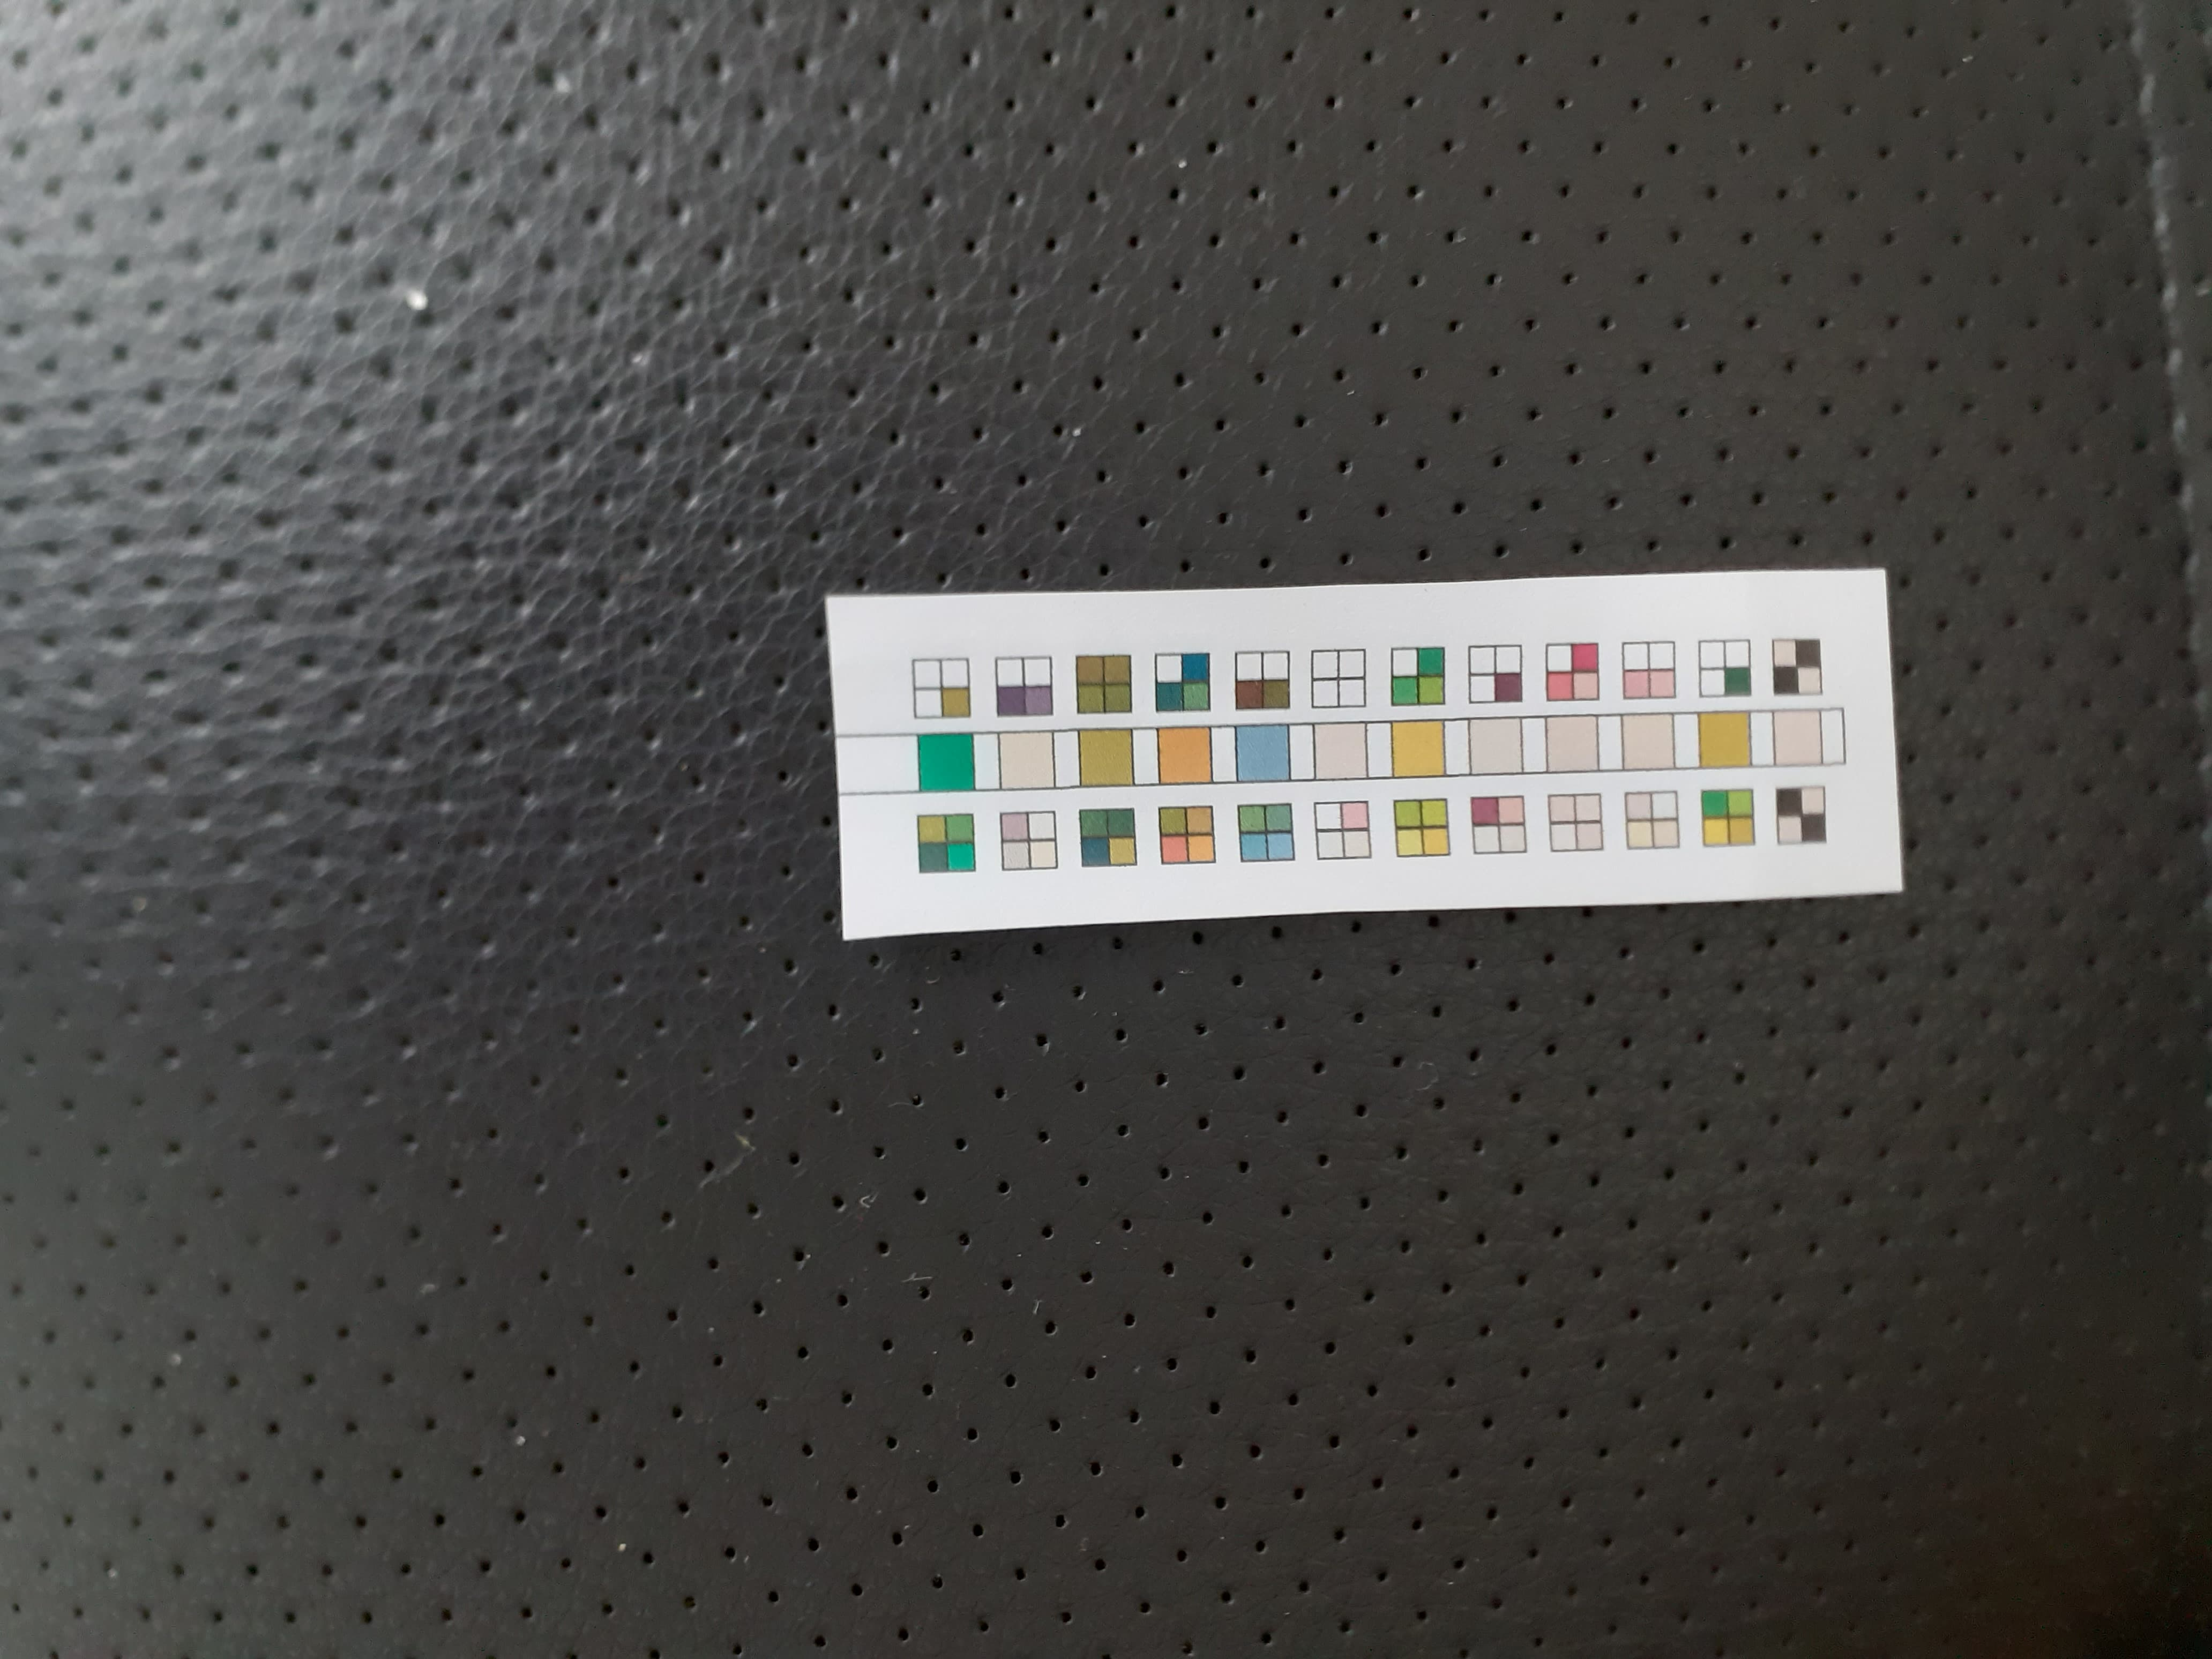tester: (824, 591, 1904, 903)
